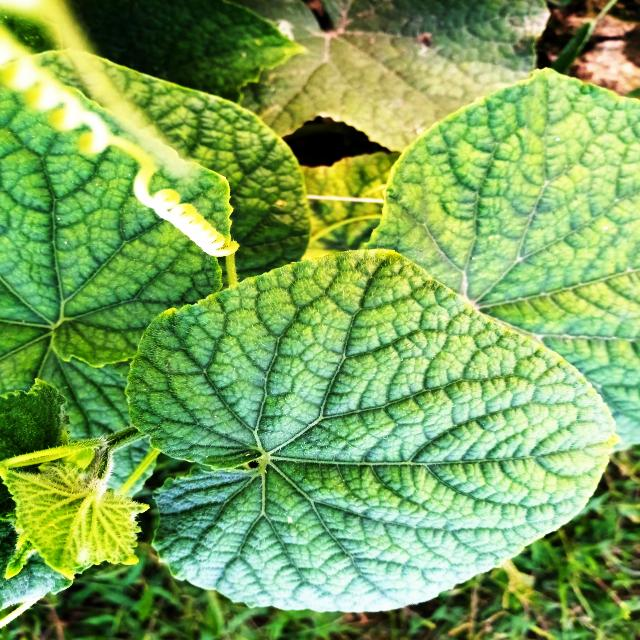Fresh-Leaf: (125, 247, 626, 616)
